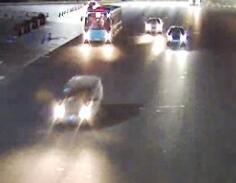bus: (80, 2, 125, 46)
car: (52, 72, 105, 129), (165, 24, 185, 47), (141, 15, 163, 34)
